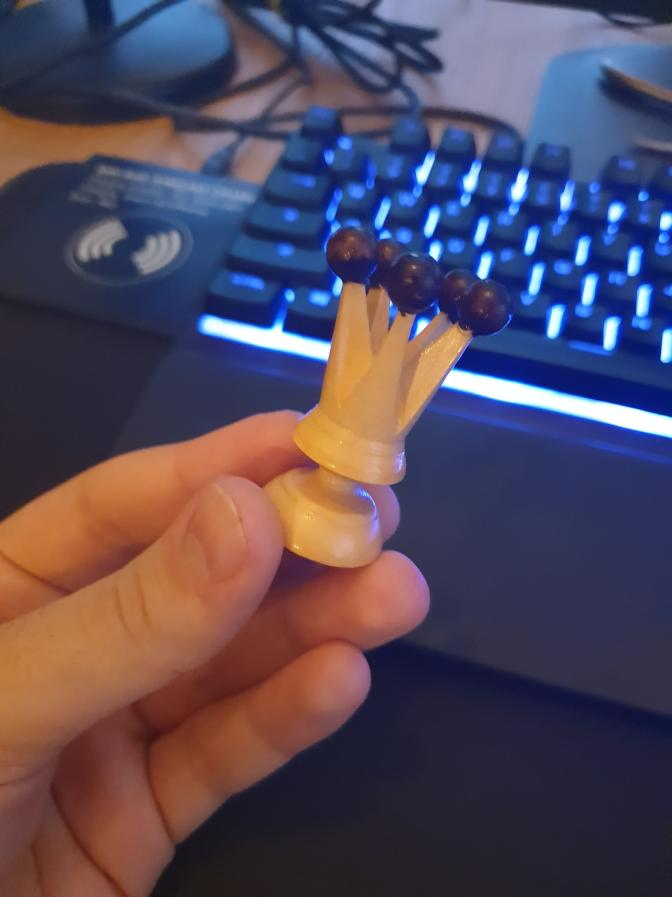wqueen: (272, 226, 514, 570)
